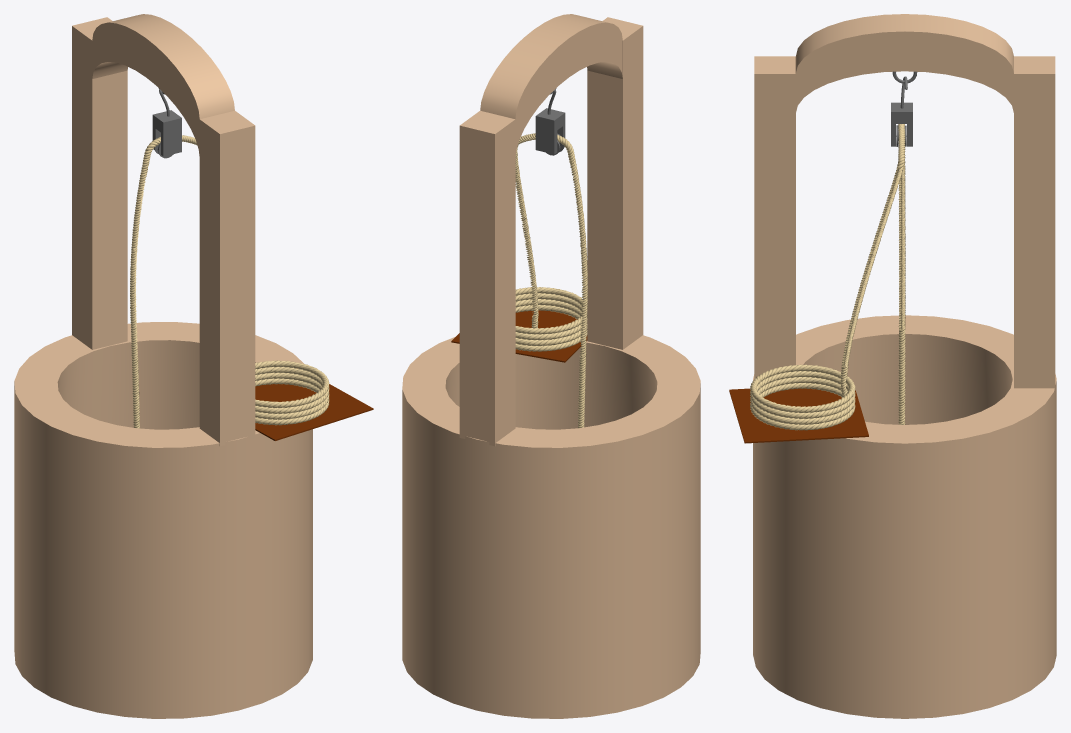
File: well.fbx
The picture shows the model from 3 angles, left to right: view 1: azimuth 30°, elevation 25°; view 2: azimuth 150°, elevation 25°; view 3: azimuth 270°, elevation 25°; orthographic projection.
Visible parts, largest first — view 1: Plane; view 2: Plane; view 3: Plane.
Boxes of the visible parts, x1=… form: Plane: x1=14, y1=14, x2=373, y2=718; Plane: x1=402, y1=14, x2=700, y2=718; Plane: x1=729, y1=14, x2=1056, y2=718.
Size of the model in its own units: 201 by 459 by 216.
